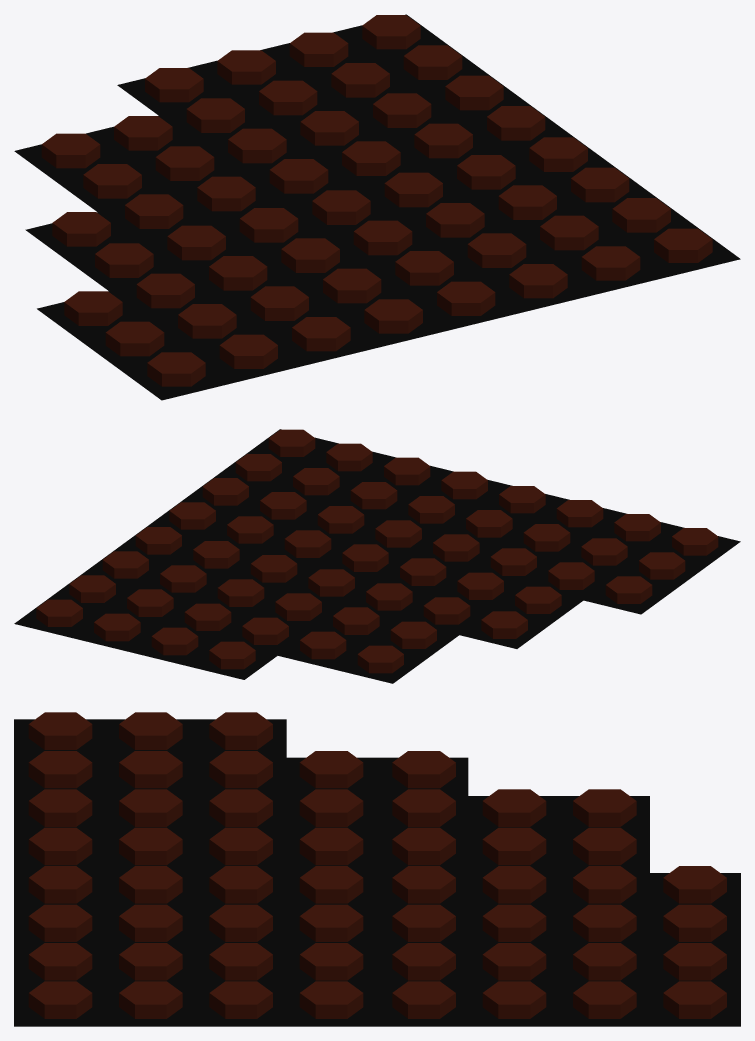
File: terreno_rua_curva.obj
3 renders of one model, top to bottom at view 1: azimuth 30°, elevation 25°; view 2: azimuth 150°, elevation 25°; view 3: azimuth 270°, elevation 25°, orthographic. The views are drawn at different scales.
Visible parts, largest first — view 1: Plane.001_Plane.003; view 2: Plane.001_Plane.003; view 3: Plane.001_Plane.003.
Part boxes in pixels (x1,y1,x2,y2): Plane.001_Plane.003: [14, 14, 740, 400]; Plane.001_Plane.003: [14, 429, 740, 683]; Plane.001_Plane.003: [14, 712, 740, 1026].
Bounding box in the file's own units: 8 × 0.2 × 8.
